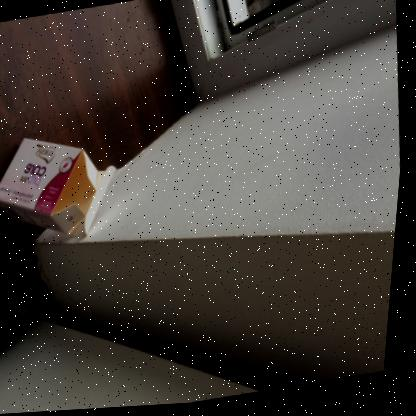Paper: (0, 137, 120, 237)
